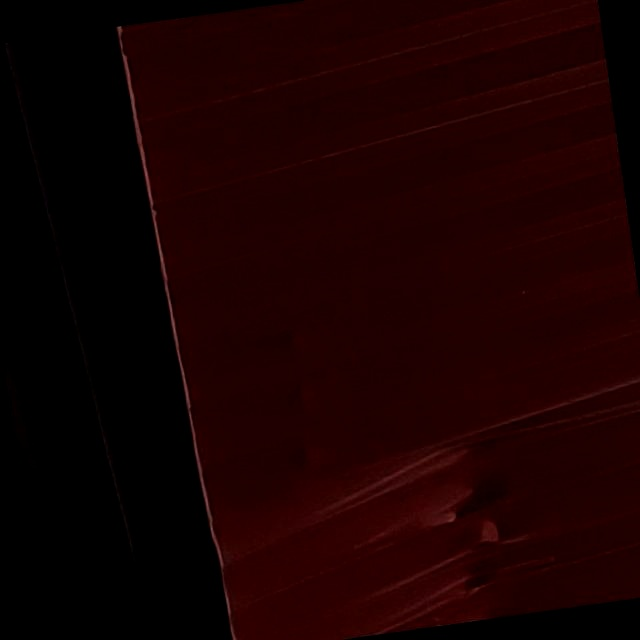Dent: (313, 377, 640, 640)
